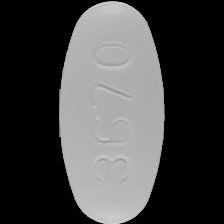68151-0574: (0, 0, 224, 224)
